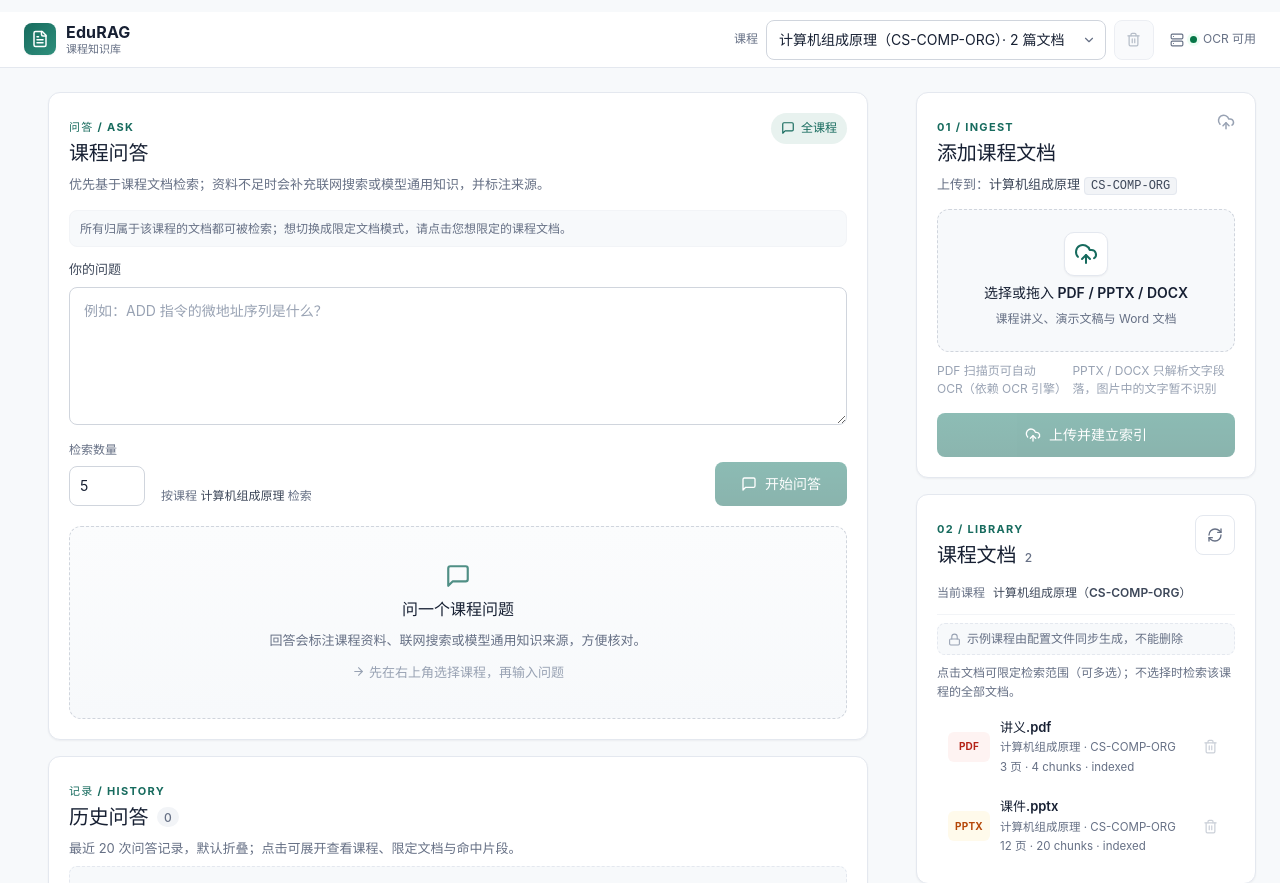
Test: EduRAG 前端工作流 › 创建课程：POST 课程代码与名称，成功后选中新课程并加载其文档
Expected: the text "讲义.pdf" is shown, top-left (1000, 719), bottom-right (1051, 735)
Select "+ 手动新建课程…" in the dropdown labelled "课程" at (936, 40), box top-left (766, 20), bottom-right (1106, 60)
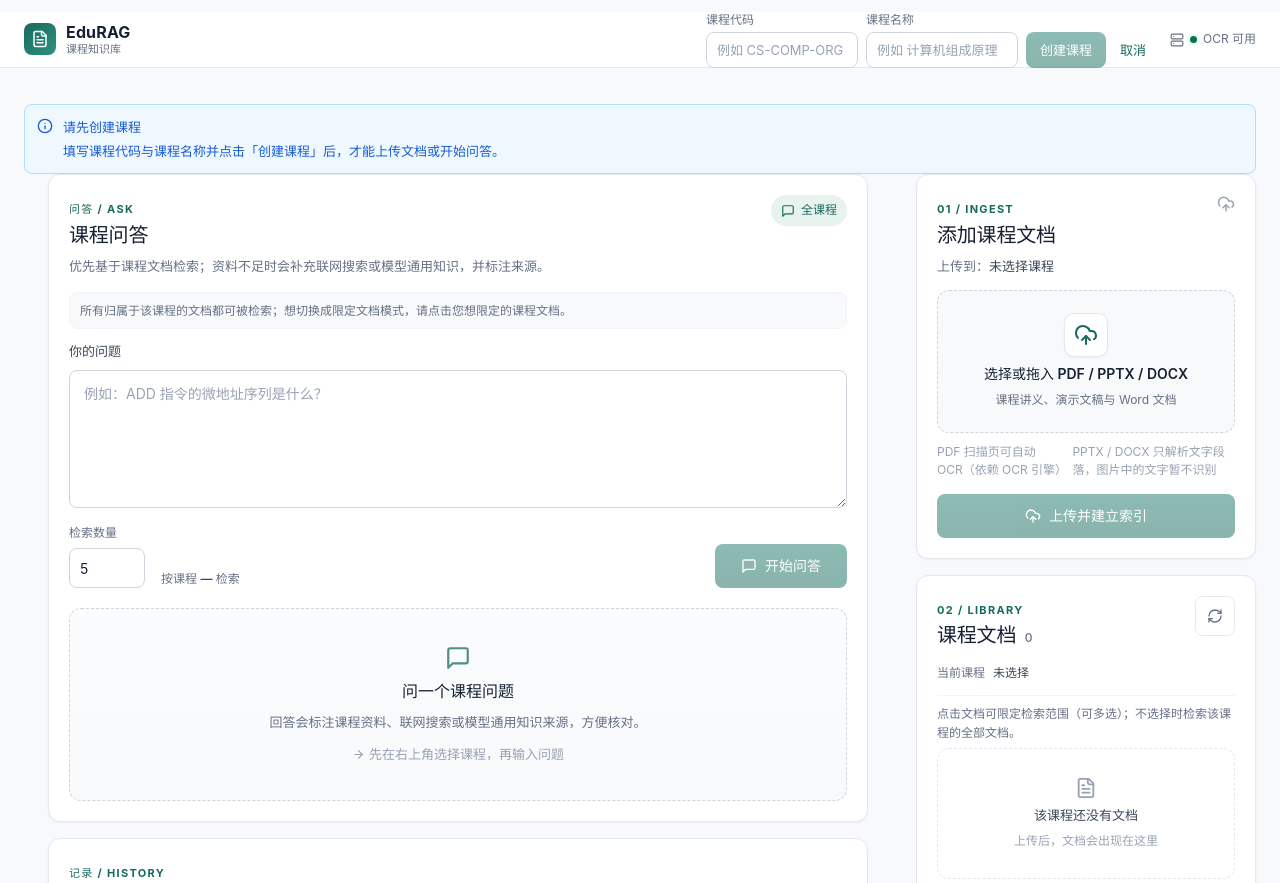
Type "cs-ai" into the field labelled "课程代码".
click(782, 50); type("cs-ai")  # box top-left (706, 32), bottom-right (858, 68)
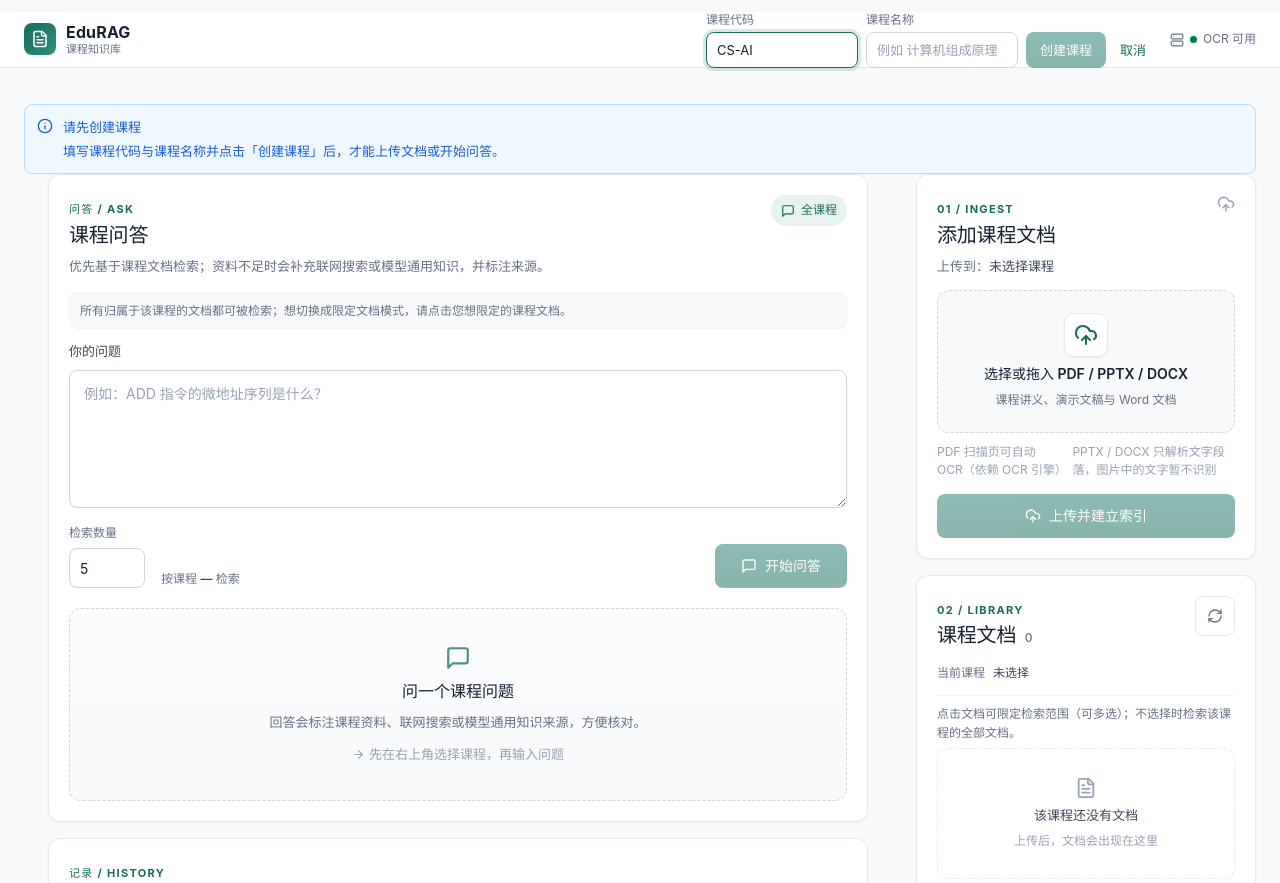
Type "人工智能导论" into the field labelled "课程名称".
click(942, 50); type("人工智能导论")  # box top-left (866, 32), bottom-right (1018, 68)
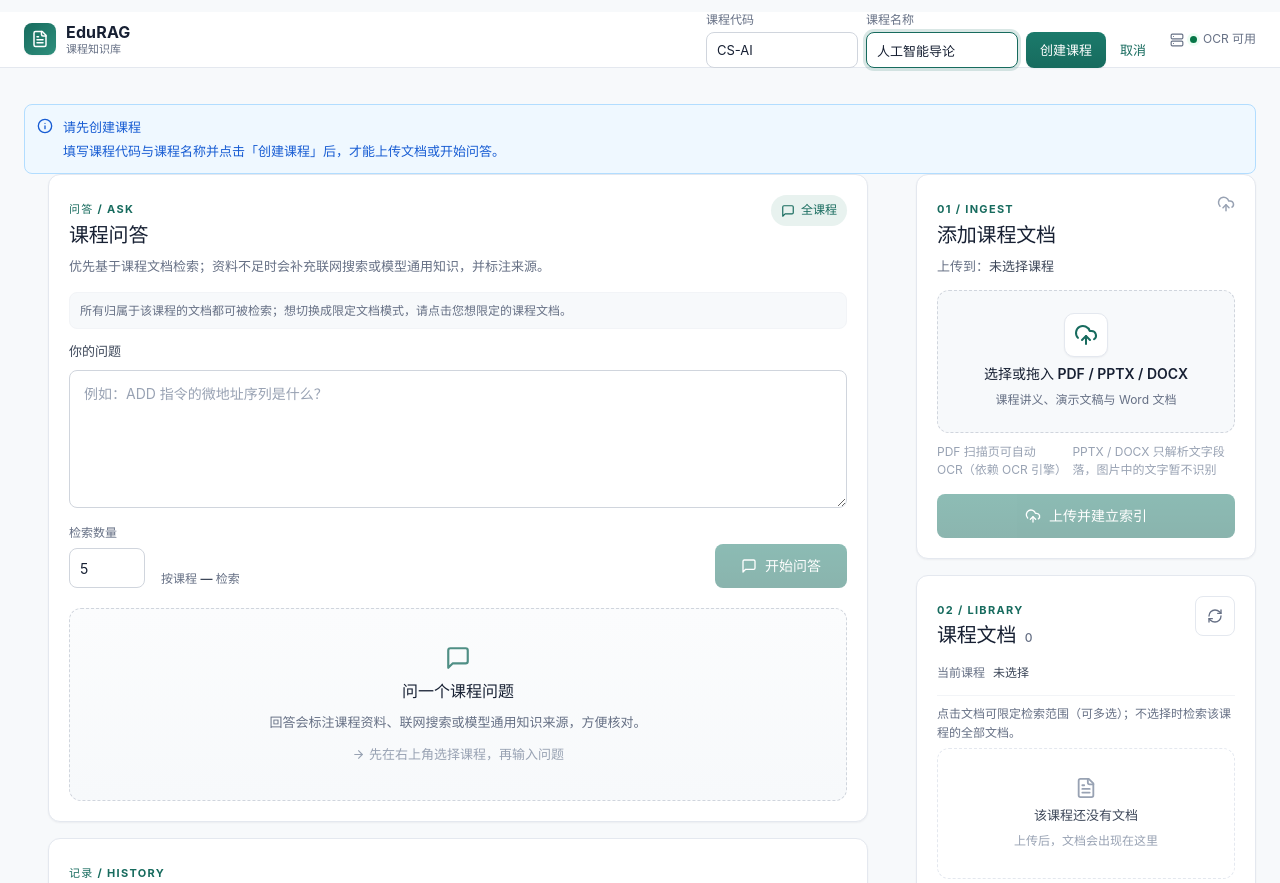
Click the button "创建课程".
click(1066, 50)  # box top-left (1026, 32), bottom-right (1106, 68)
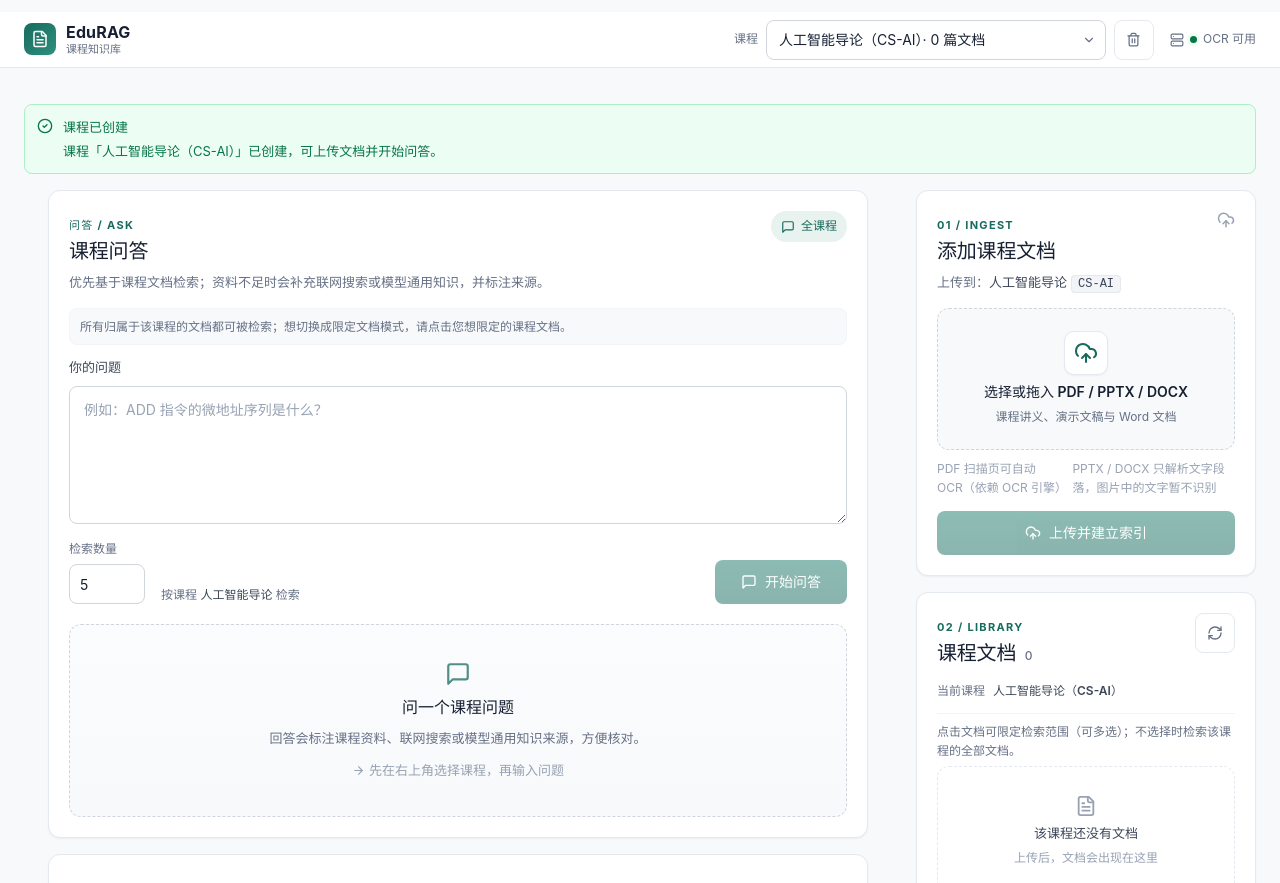
Expected: the text "课程已创建" is shown, top-left (63, 119), bottom-right (128, 135)
Expected: the dropdown labelled "课程" shows "人工智能导论（CS-AI）· 0 篇文档", top-left (766, 20), bottom-right (1106, 60)
